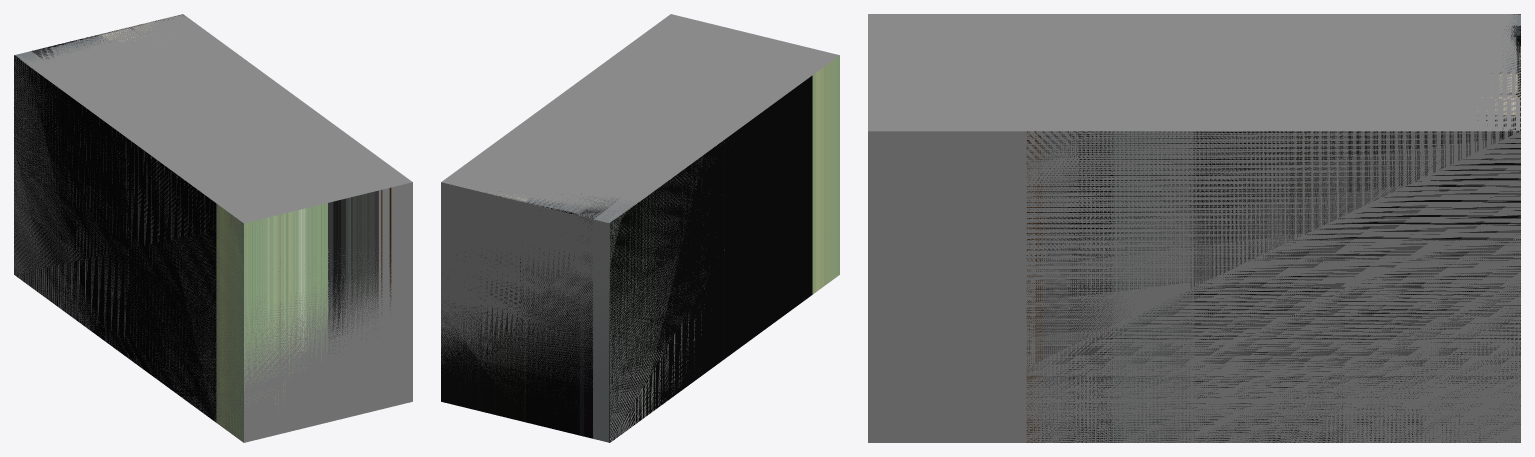
Rendered from water_tank.FBX.
3 views of the same model, side by side, from view 1: azimuth 30°, elevation 25°; view 2: azimuth 150°, elevation 25°; view 3: azimuth 270°, elevation 25° (orthographic). The views are drawn at different scales.
Parts seen in each view (by area): view 1: bounds, colbox-1; view 2: bounds, colbox-1; view 3: bounds, colbox-1.
Part boxes in pixels (left/top/right/bottom): bounds: left=14, top=14, right=412, bottom=442; colbox-1: left=14, top=14, right=391, bottom=442; bounds: left=441, top=14, right=839, bottom=442; colbox-1: left=441, top=55, right=839, bottom=442; bounds: left=868, top=14, right=1520, bottom=442; colbox-1: left=1026, top=14, right=1520, bottom=442.
Size of the model in its own units: 103 by 128 by 243.
